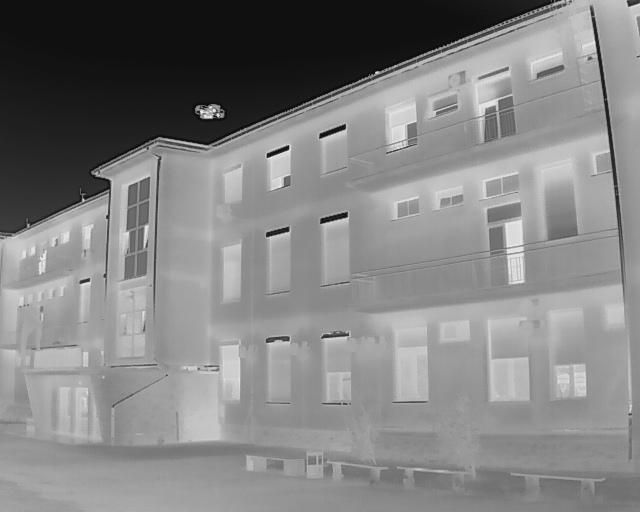drone: (189, 96, 229, 132)
